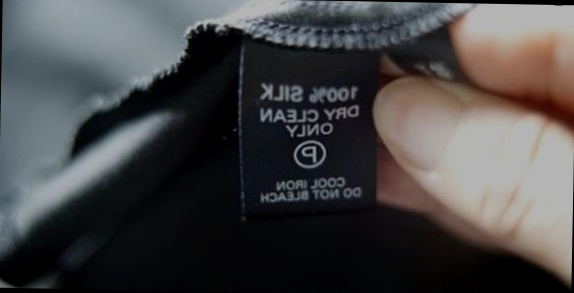dry_clean_any_solvent_except_trichloroethylene: (292, 138, 326, 169)
